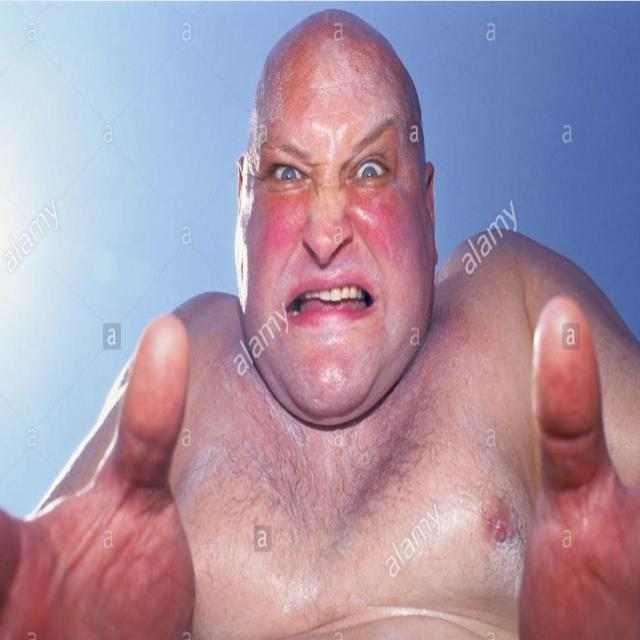no_helmet: (232, 0, 457, 162)
